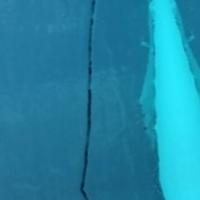crack: (66, 1, 106, 199)
